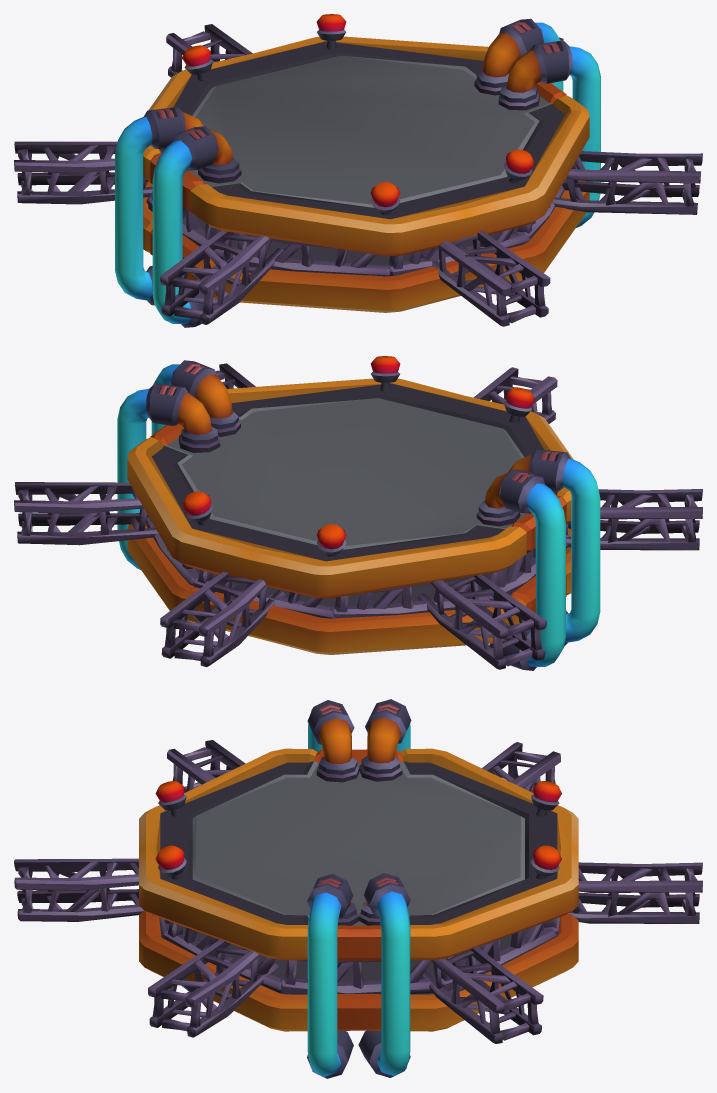
File: SM_Prison_Сonstruction_03.fbx
3 views of the same model, one above another, from view 1: azimuth 30°, elevation 25°; view 2: azimuth 150°, elevation 25°; view 3: azimuth 270°, elevation 25° (orthographic).
Visible parts, largest first — view 1: SM_Prison_Сonstruction_03; view 2: SM_Prison_Сonstruction_03; view 3: SM_Prison_Сonstruction_03.
Part boxes in pixels (box(x1,y1,x2,y2)): SM_Prison_Сonstruction_03: box(14, 14, 702, 327); SM_Prison_Сonstruction_03: box(14, 356, 702, 670); SM_Prison_Сonstruction_03: box(14, 699, 702, 1078).
Size of the model in its own units: 18.16 by 6.18 by 19.88.
